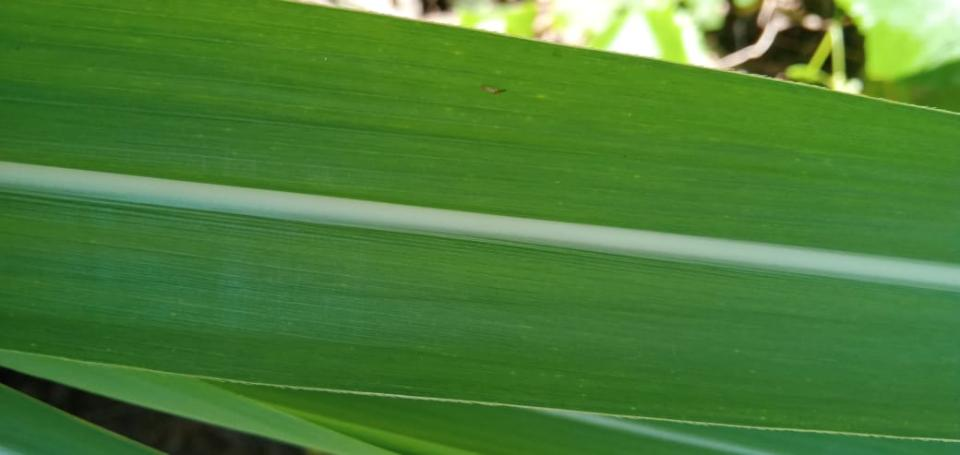Healthy: (0, 0, 959, 442), (209, 380, 959, 454), (0, 349, 393, 454), (0, 386, 162, 454)
